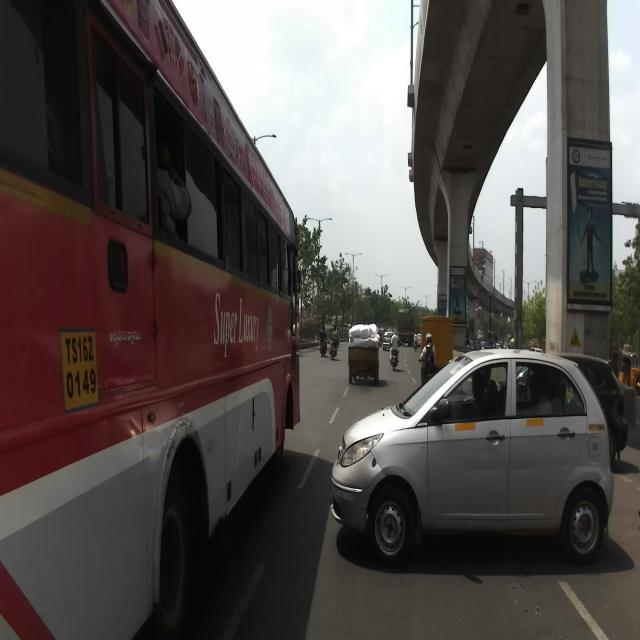Car_TATA: (329, 347, 614, 567)
bus: (0, 0, 300, 639)
